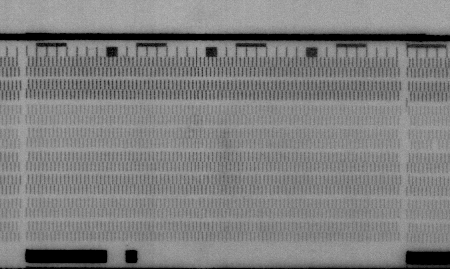Broken hole: (429, 138, 442, 152)
Oblique printing: (404, 91, 414, 107)
